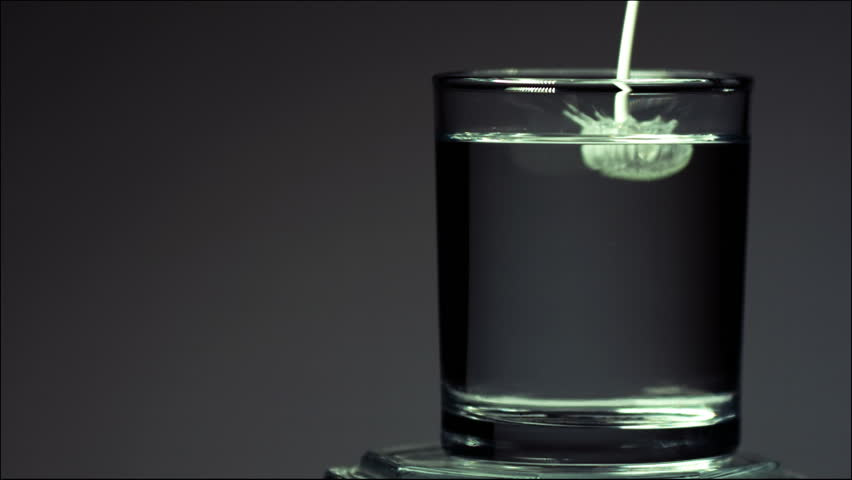glass of water: (432, 70, 749, 454)
